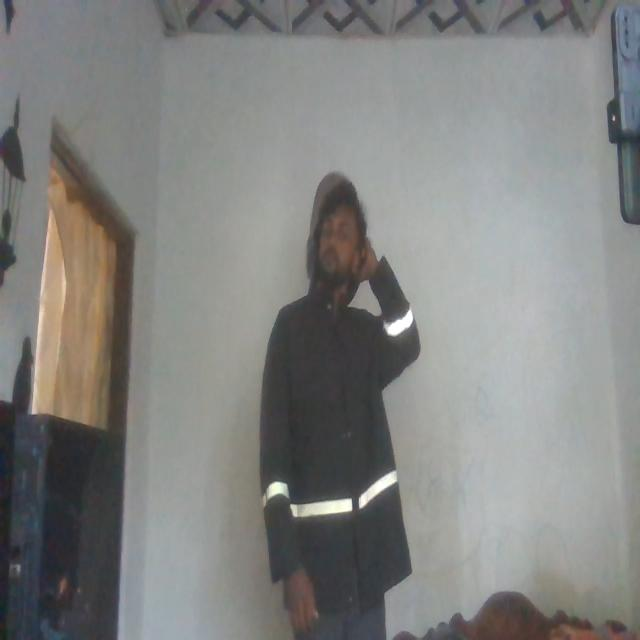Jacket_Wearer: (261, 276, 417, 586)
Person: (258, 181, 414, 640)
